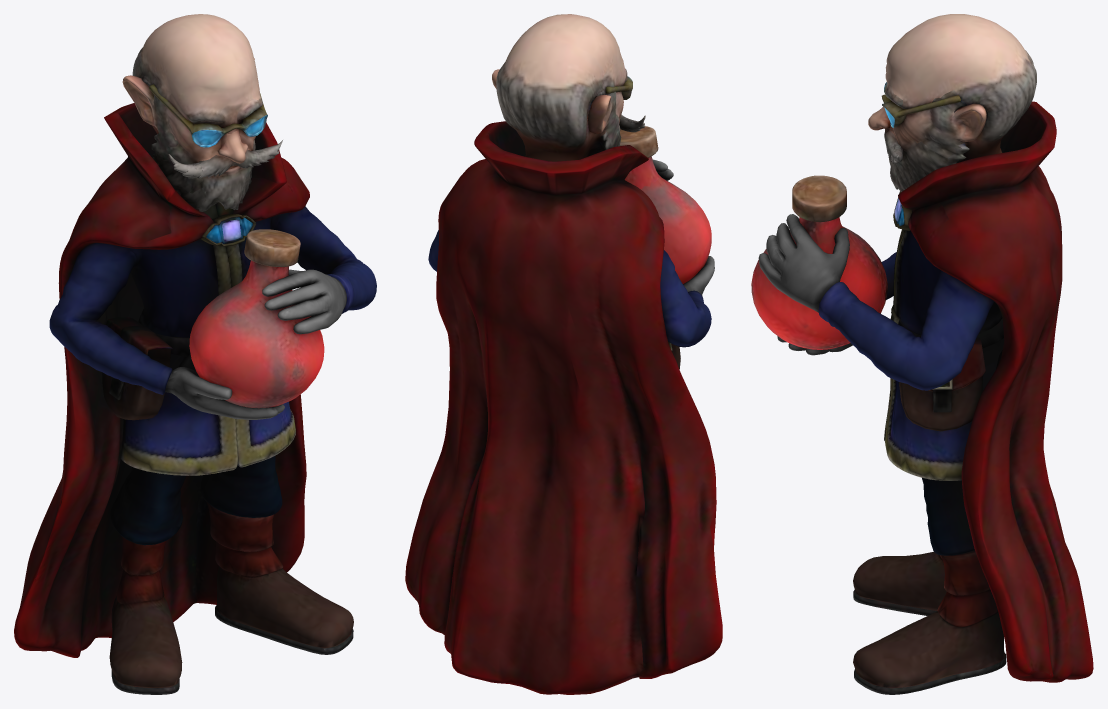
The model's file is MZ4250 - Gnome Male Alchemist Artificer Old_a.glb.
The picture shows the model from 3 angles, left to right: view 1: azimuth 30°, elevation 25°; view 2: azimuth 150°, elevation 25°; view 3: azimuth 270°, elevation 25°; orthographic projection. The views are drawn at different scales.
Visible parts, largest first — view 1: Buckle Fancy.001; view 2: Buckle Fancy.001; view 3: Buckle Fancy.001.
Part boxes in pixels (<box>): Buckle Fancy.001: <box>14,14,376,694</box>; Buckle Fancy.001: <box>405,14,722,694</box>; Buckle Fancy.001: <box>751,14,1093,694</box>.
Bounding box in the file's own units: 0.2768 × 0.5273 × 0.253.
Materials: 1 (1 with a texture image).
